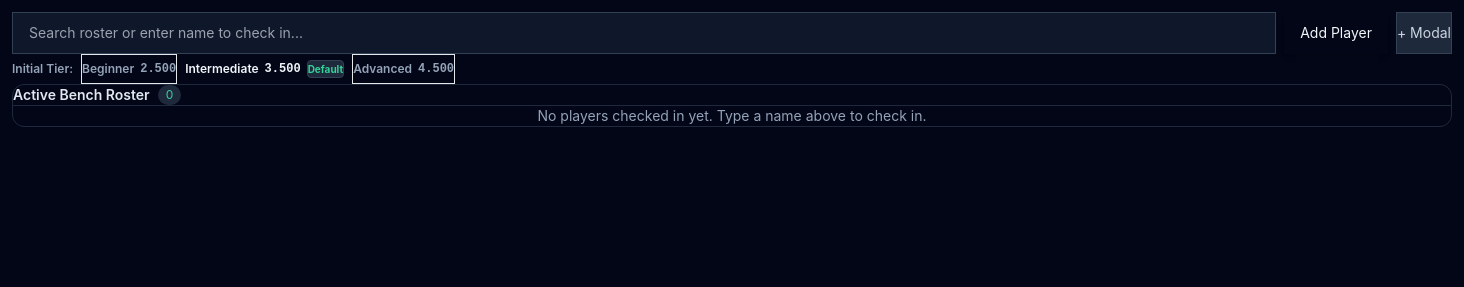
Test: RosterCheckInList › checks in a resting player when their suggestion is clicked
# Check in player
Type "Apriyani Rahayu" into the field with placeholder "Search roster or enter name to check in..." at {"x": 644, "y": 33}, box [12, 12, 1276, 54]
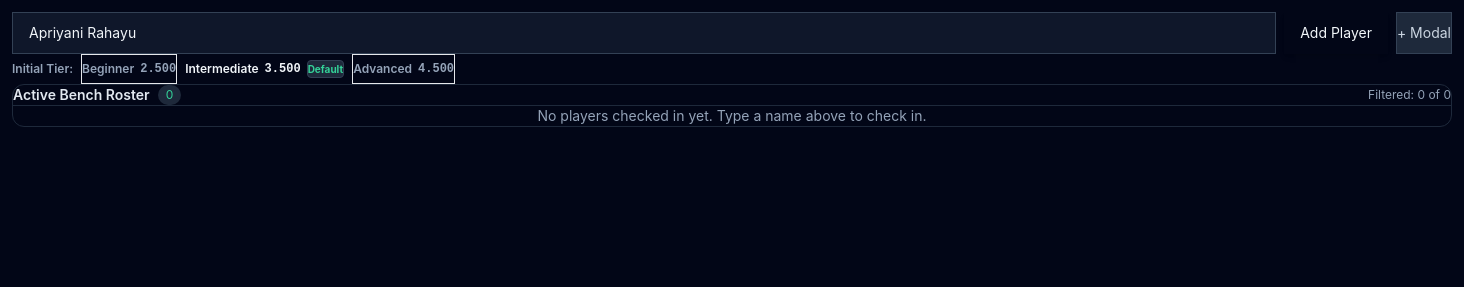
Click the button "Add Player" at {"x": 1336, "y": 33}, box [1284, 12, 1388, 54]
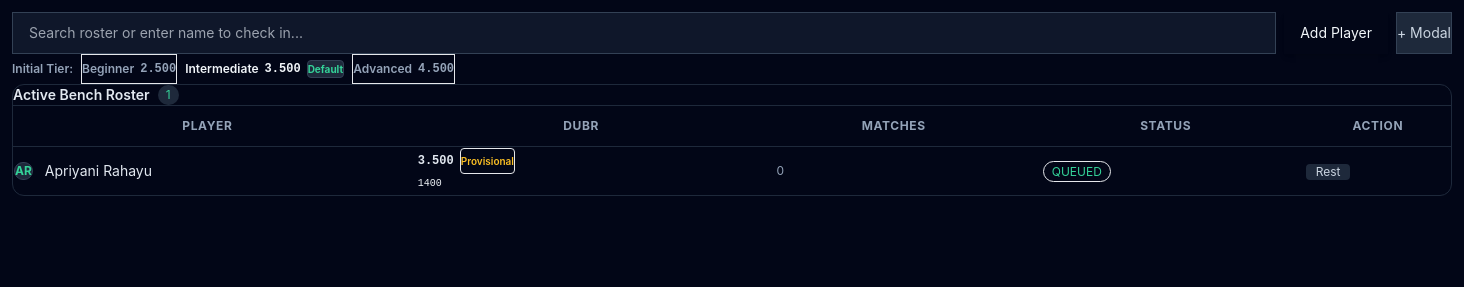
Now the text "Apriyani Rahayu" is shown, box [45, 161, 152, 181]
Click the button with aria-label "Toggle status for Apriyani Rahayu" at {"x": 1328, "y": 172}, box [1306, 164, 1350, 180]
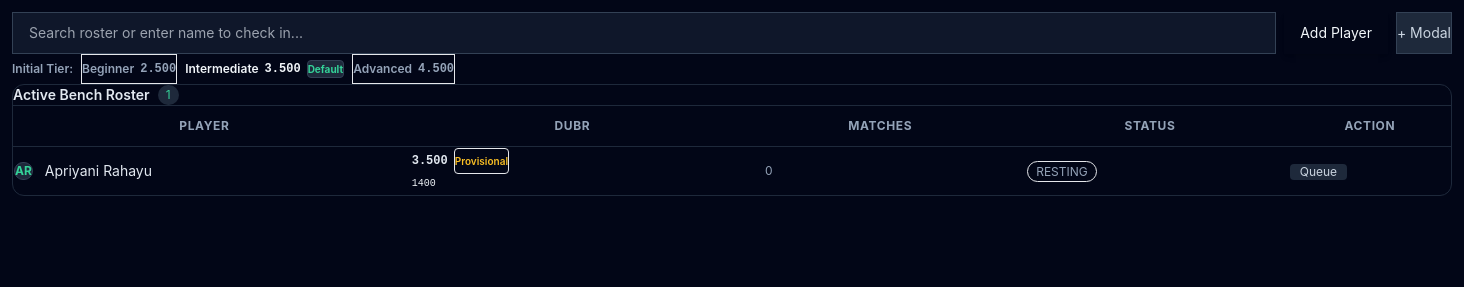
Now the text "RESTING" is shown, box [1027, 161, 1097, 182]
# Search "Apri" and click suggestion
Type "Apri" into the field with placeholder "Search roster or enter name to check in..." at {"x": 644, "y": 33}, box [12, 12, 1276, 54]
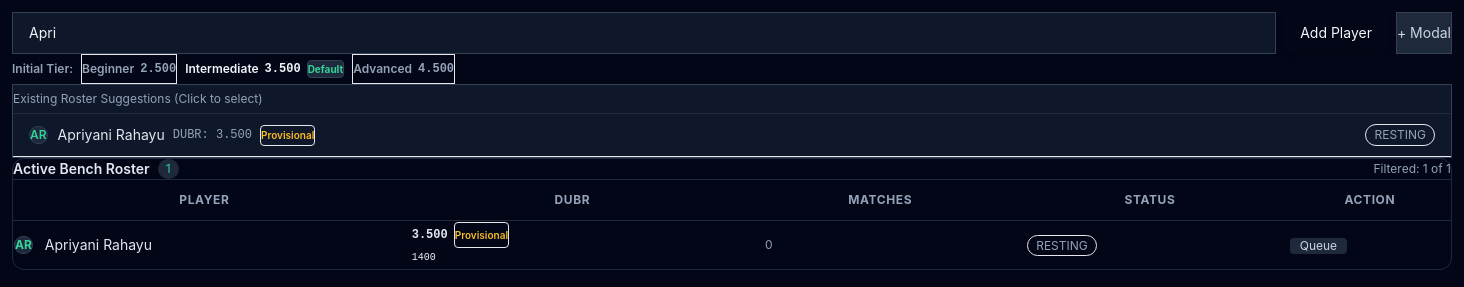
Click the button with aria-label "Select existing player Apriyani Rahayu" at {"x": 111, "y": 134}, box [13, 114, 1451, 157]
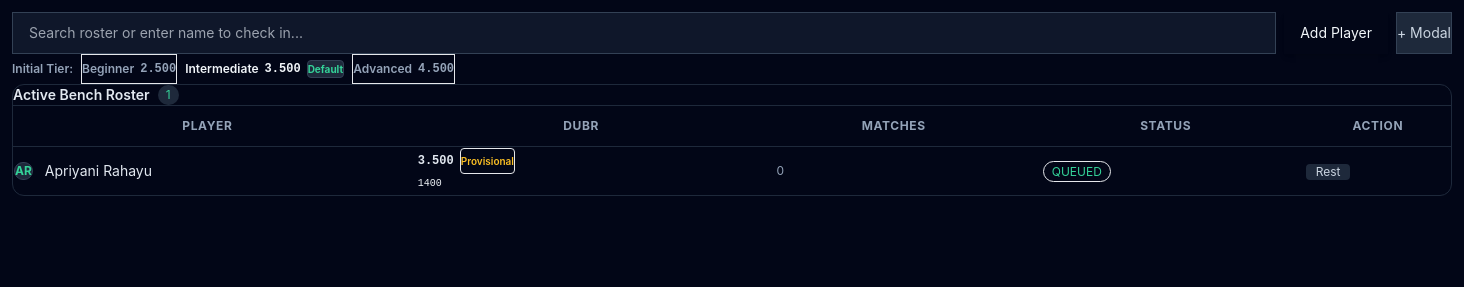
Now the text "QUEUED" is shown, box [1043, 161, 1111, 182]
